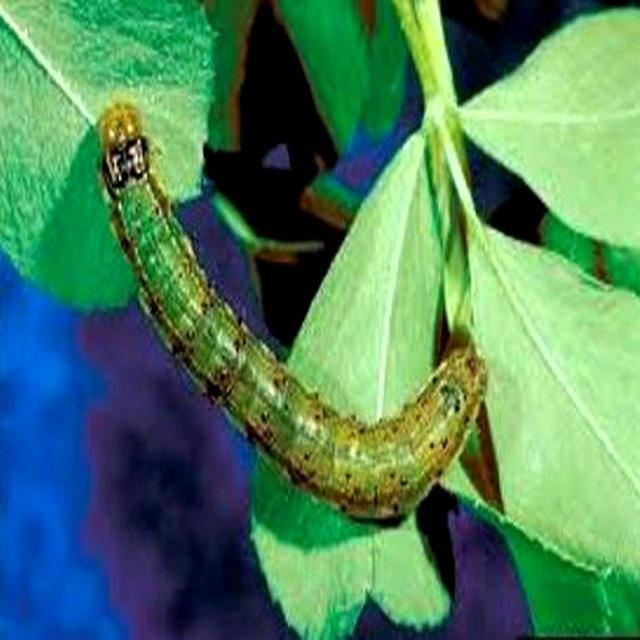gusano_cogollero: (92, 94, 490, 523)
